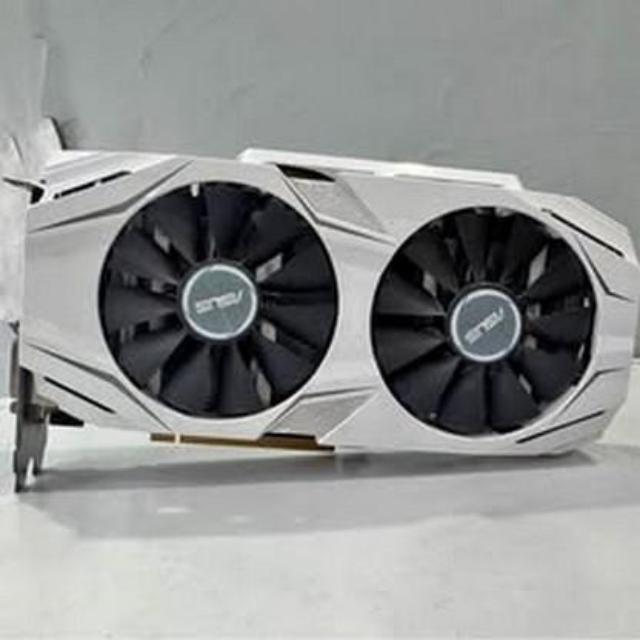GPU: (0, 124, 640, 490)
